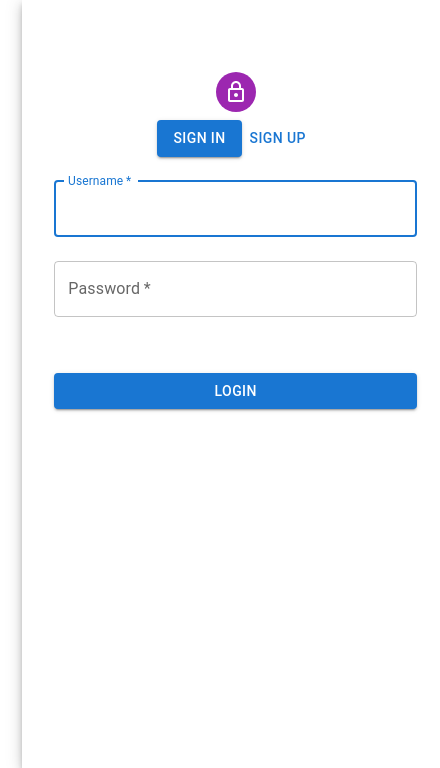
Test: Authentication Page › should display error message on failed login
The width and height of the screenshot is (440, 768).
Type "wronguser" into the field labelled "Username *" at (236, 208), box [54,180,417,236]
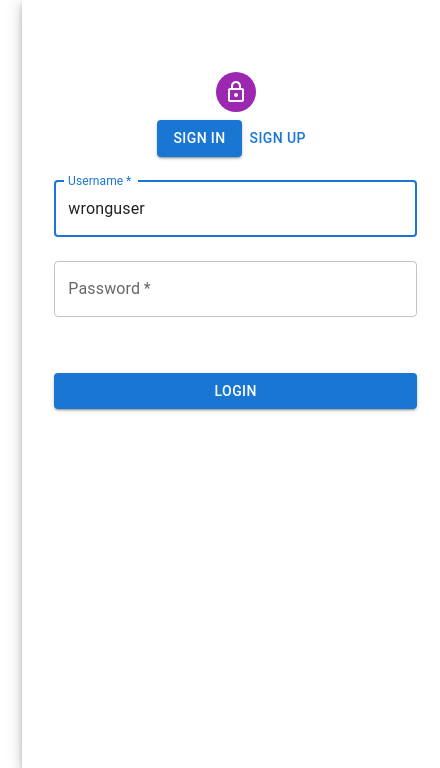
Type "wrongpass" into the password field labelled "Password *" at (236, 288), box [54,260,417,316]
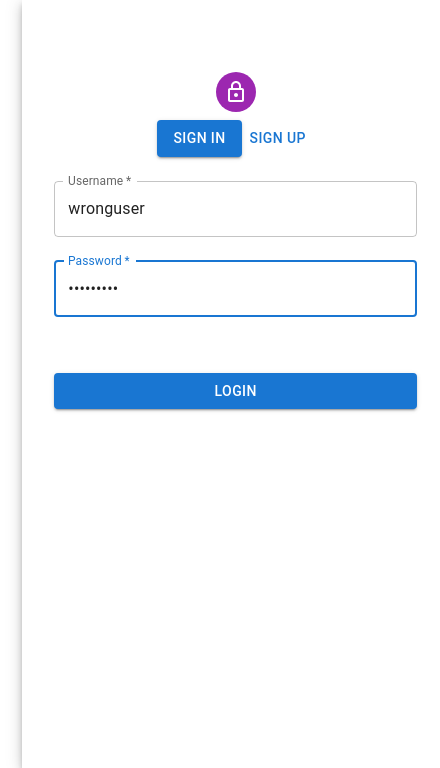
Click the button "Login" at (236, 391), box [54,372,417,409]
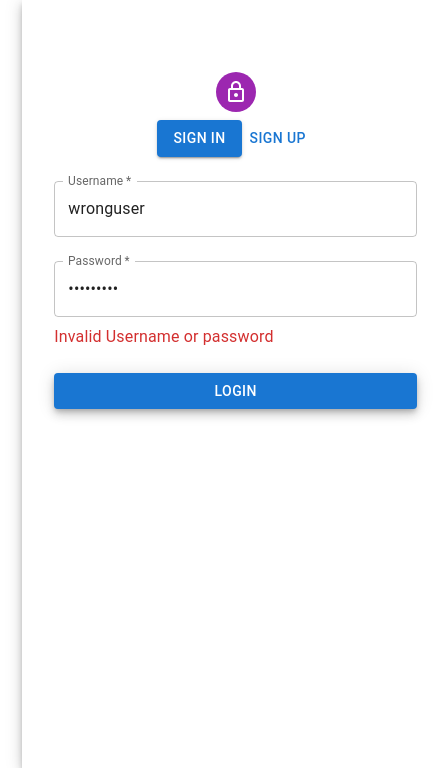
Expected: the text "Invalid Username or password" is shown, [54,326,274,346]
